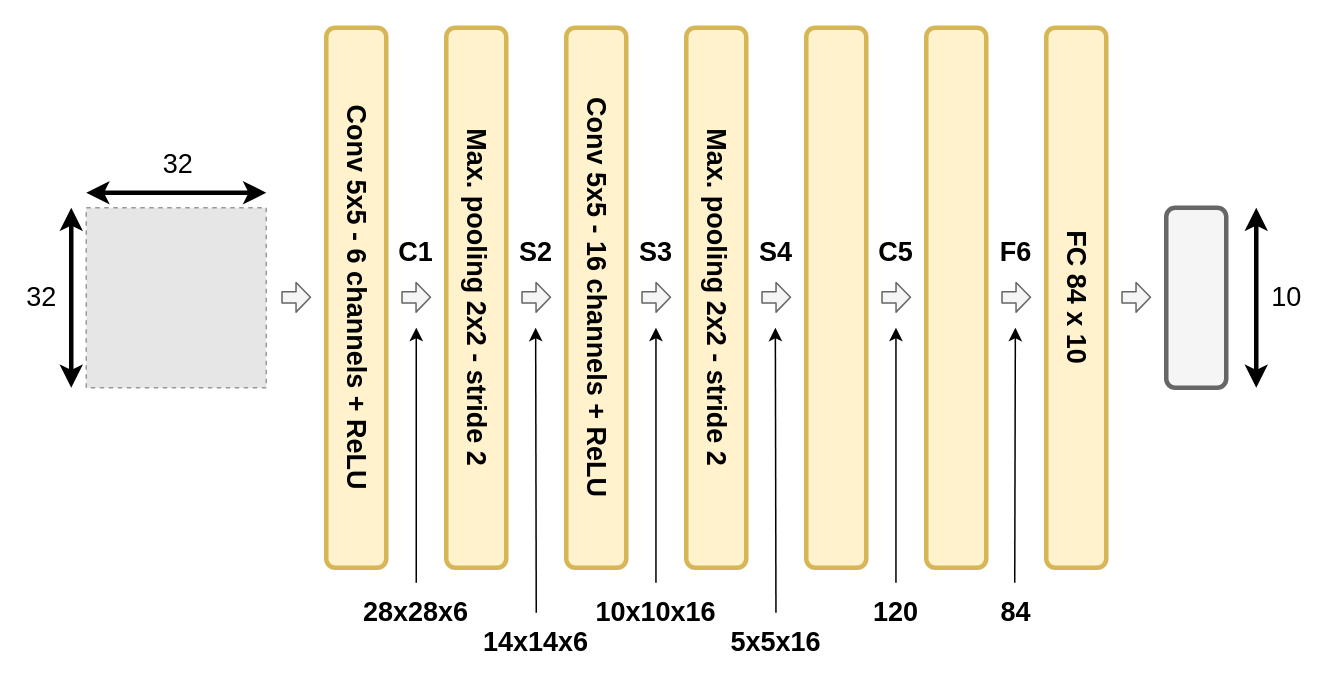
The diagram is 1326 pixels wide and 686 high, and some of its shapes have lost their labels. Grey dashed boxes stand in for pictures. Each missing label, with the centre of its shape:
FC 120 x 84 + ReLU: (955,297)
FC 400 x 120 + ReLU: (835,297)
Output: (1195,297)
